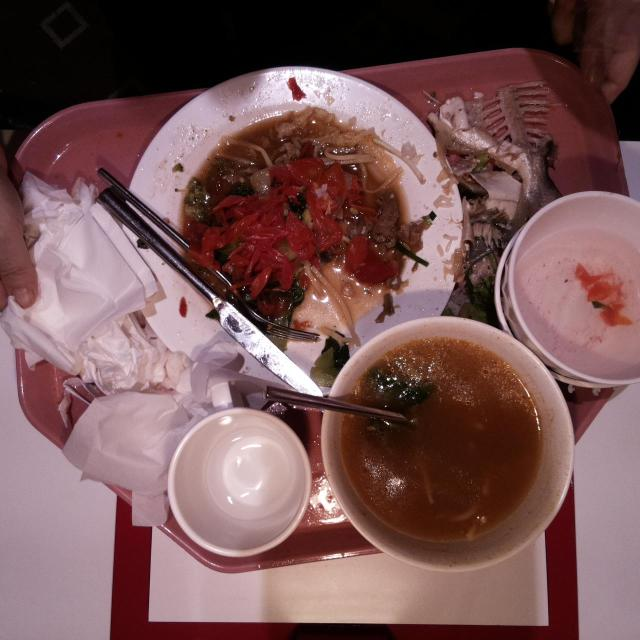Bone-fish: (479, 76, 551, 202)
Vegetable: (263, 282, 306, 352), (307, 328, 351, 390)
